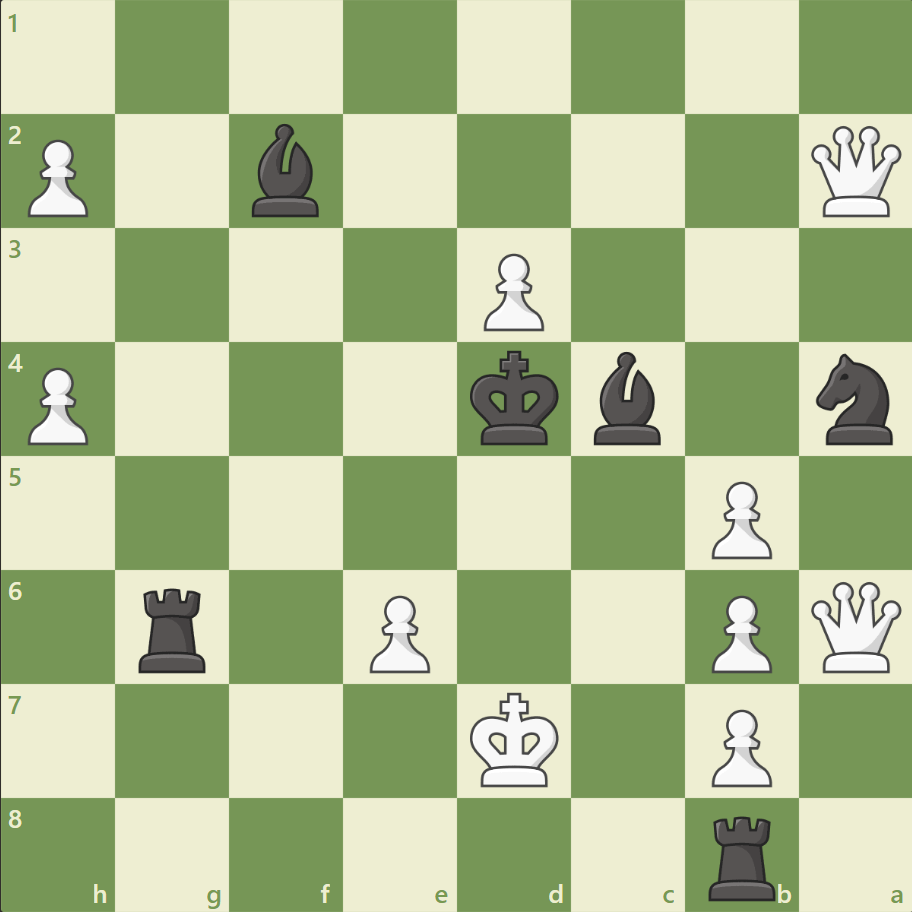K: (465, 685, 565, 793)
P: (701, 700, 776, 791), (701, 586, 776, 677), (701, 473, 776, 564), (20, 359, 95, 450), (474, 246, 549, 337), (20, 132, 95, 223), (361, 586, 435, 677)
Q: (805, 576, 904, 676), (805, 122, 904, 222)
b: (585, 347, 669, 449), (244, 120, 328, 222)
k: (465, 344, 565, 452)
n: (806, 348, 903, 450)
r: (700, 806, 783, 904), (133, 579, 215, 676)
